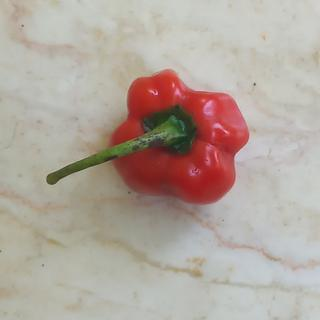Grade-B: (105, 65, 252, 202)
